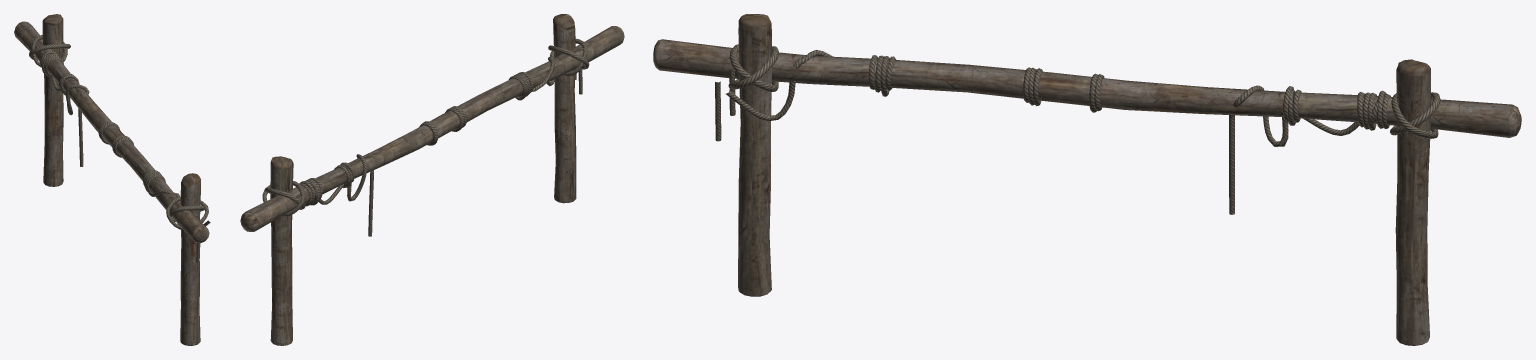
File: Wooden_Hitching_Post.glb
3 renders of one model, left to right at view 1: azimuth 30°, elevation 25°; view 2: azimuth 150°, elevation 25°; view 3: azimuth 270°, elevation 25°, orthographic. The views are drawn at different scales.
Visible parts, largest first — view 1: SM_Wooden_Hitching_Post; view 2: SM_Wooden_Hitching_Post; view 3: SM_Wooden_Hitching_Post.
Part boxes in pixels (x1=…): SM_Wooden_Hitching_Post: x1=14, y1=14, x2=210, y2=345; SM_Wooden_Hitching_Post: x1=240, y1=14, x2=624, y2=345; SM_Wooden_Hitching_Post: x1=653, y1=14, x2=1521, y2=345.
Size of the model in its own units: 0.7441 by 1.15 by 3.27.
2 materials, 2 textured.
